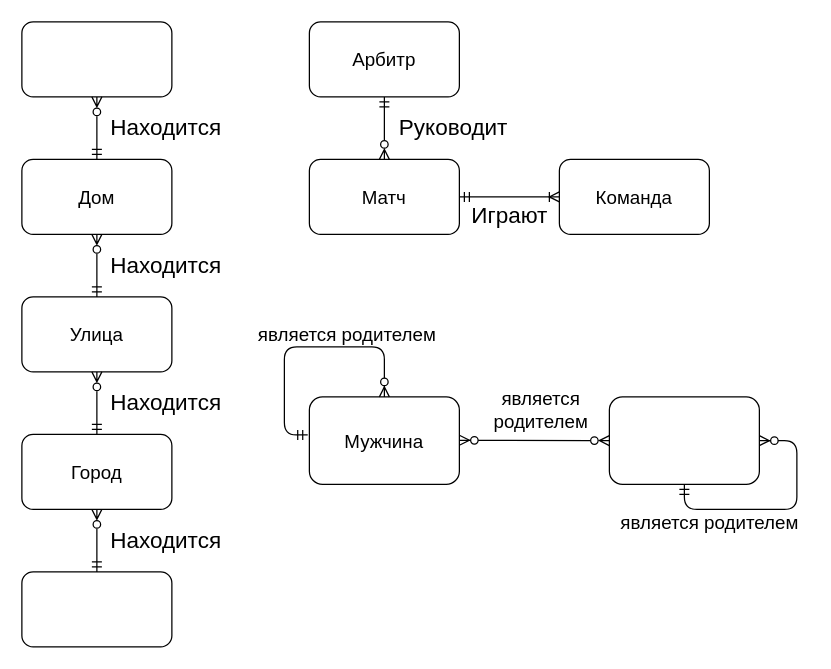
Image size: 831x669. Some labels were removed from this diagram. The centre of each missing label's shape, as x and y in pixels:
Женщина: the point at 683,440
Квартира: the point at 96,59
Страна: the point at 96,609
